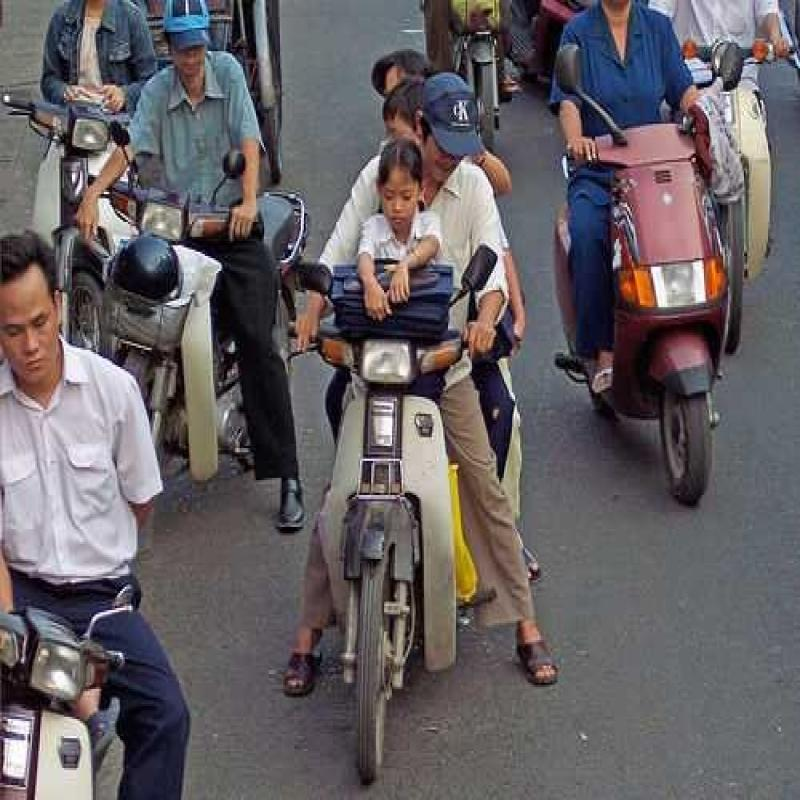bike: (596, 78, 765, 507), (0, 571, 138, 800), (110, 182, 215, 431)
